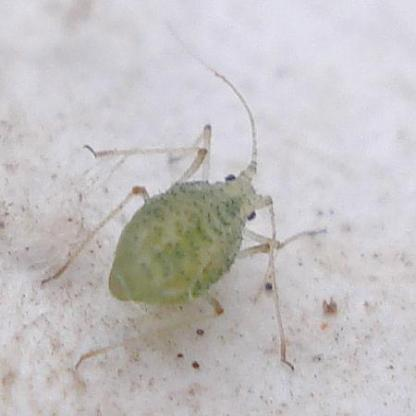aphid: (70, 84, 300, 368)
